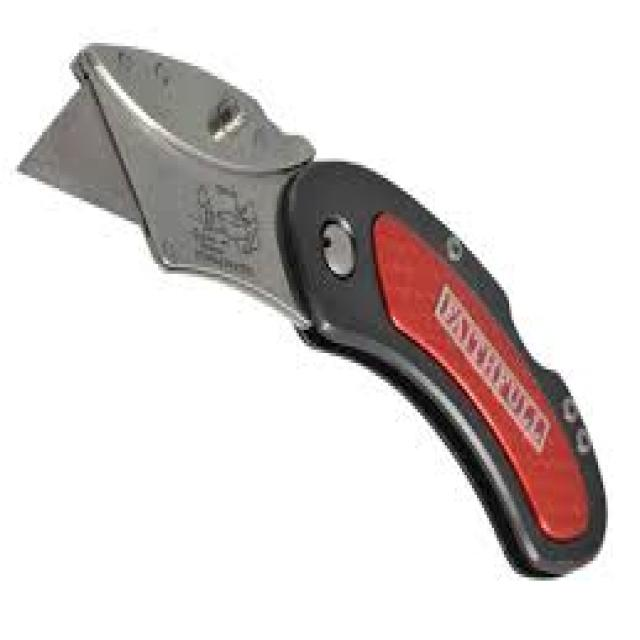knives: (12, 33, 610, 584)
